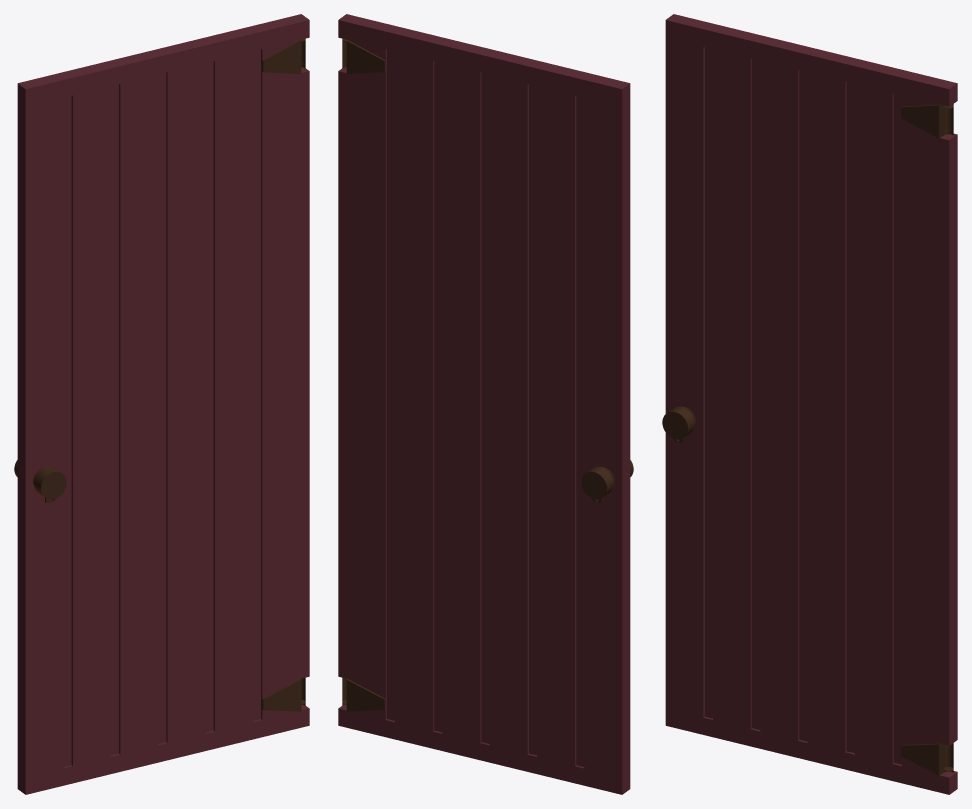
File: Door.fbx
3 renders of one model, left to right at view 1: azimuth 30°, elevation 25°; view 2: azimuth 150°, elevation 25°; view 3: azimuth 330°, elevation 25°, orthographic.
Parts seen in each view (by area): view 1: Door, Handles; view 2: Door, Handles; view 3: Door, Handles, Hinges.
Boxes of the visible parts, box(x1,y1,x2,y2) form: Door: box(17, 14, 309, 794); Handles: box(14, 460, 66, 502); Door: box(338, 14, 630, 794); Handles: box(581, 460, 633, 502); Door: box(665, 14, 957, 794); Handles: box(662, 406, 695, 442); Hinges: box(944, 104, 953, 772).
Size of the model in its own units: 160 by 380 by 25.99.
